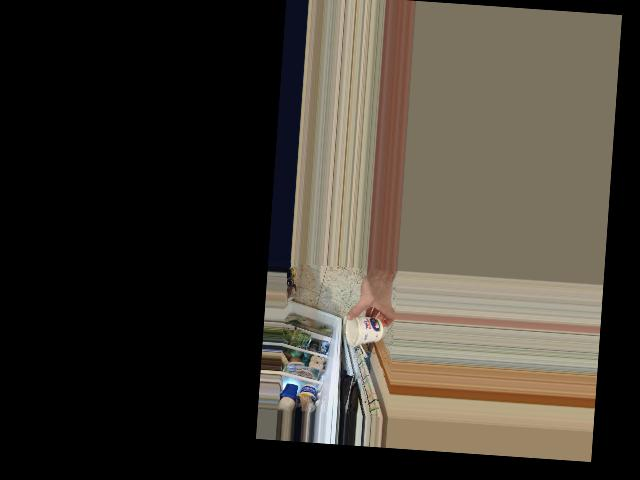cotage: (344, 310, 385, 348)
